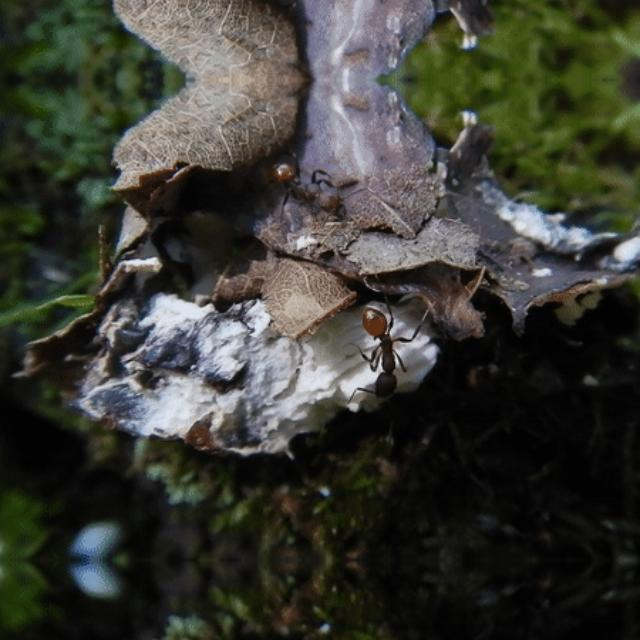Apheanogaster: (340, 294, 420, 402), (261, 150, 353, 218)
